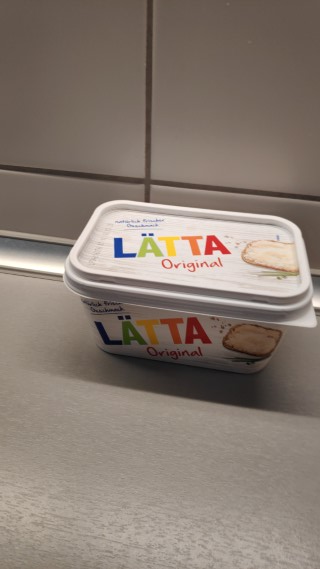laetta: (62, 197, 320, 375)
